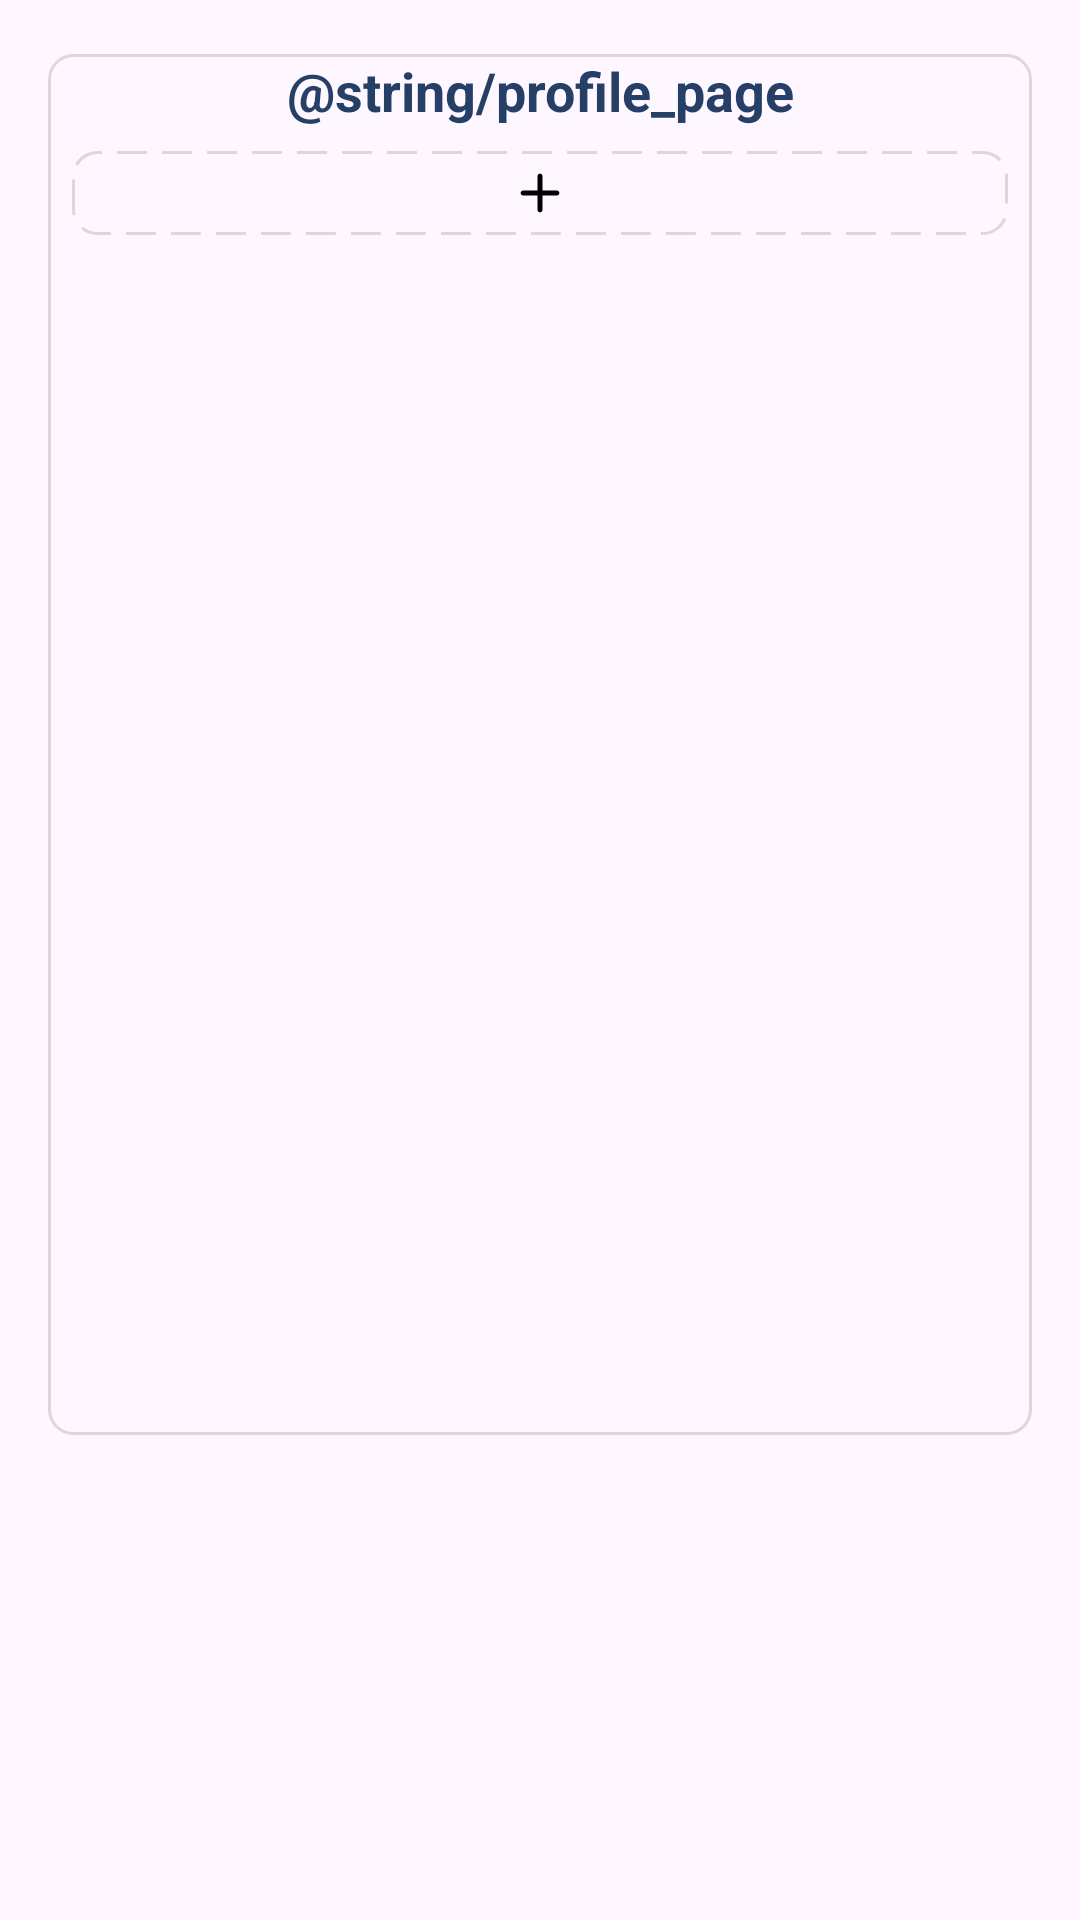

Icons on this 1080 × 1920 Android screen, each with its box as box(x1, y1, x2, y2):
add: box(520, 151, 561, 235)
